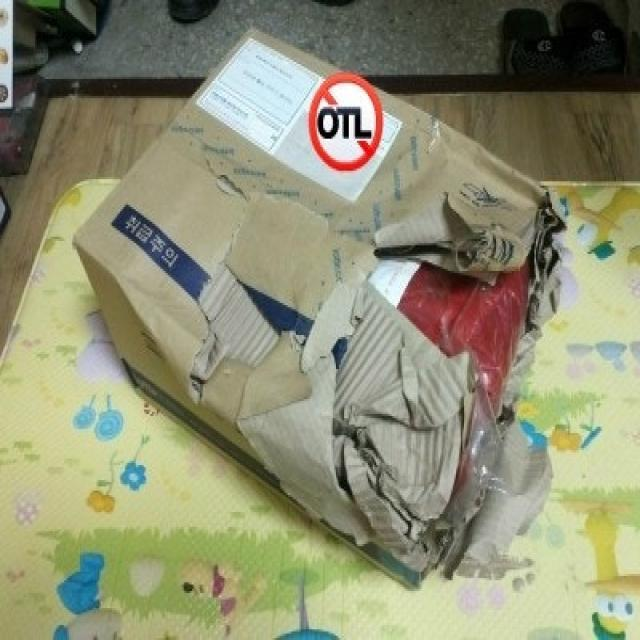box: (75, 26, 566, 591)
crushed: (141, 231, 290, 407)
opened: (294, 191, 564, 579)
